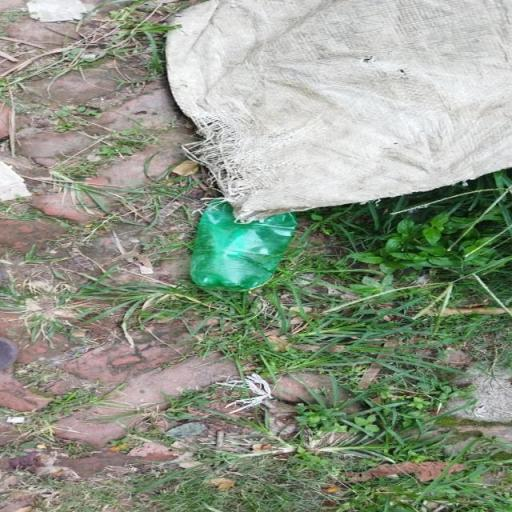plastic: (188, 197, 298, 291)
